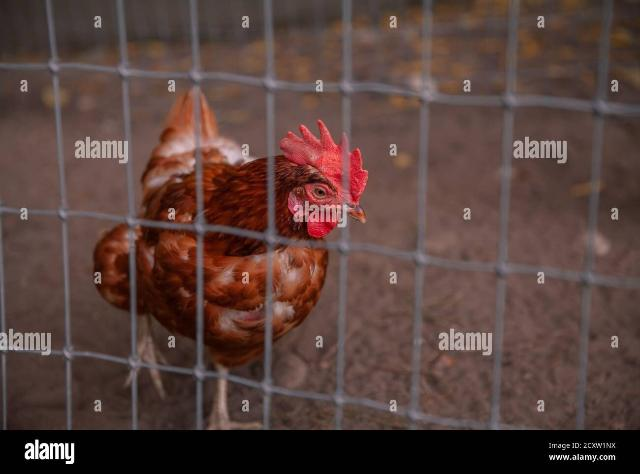Chicken: (95, 85, 366, 434)
